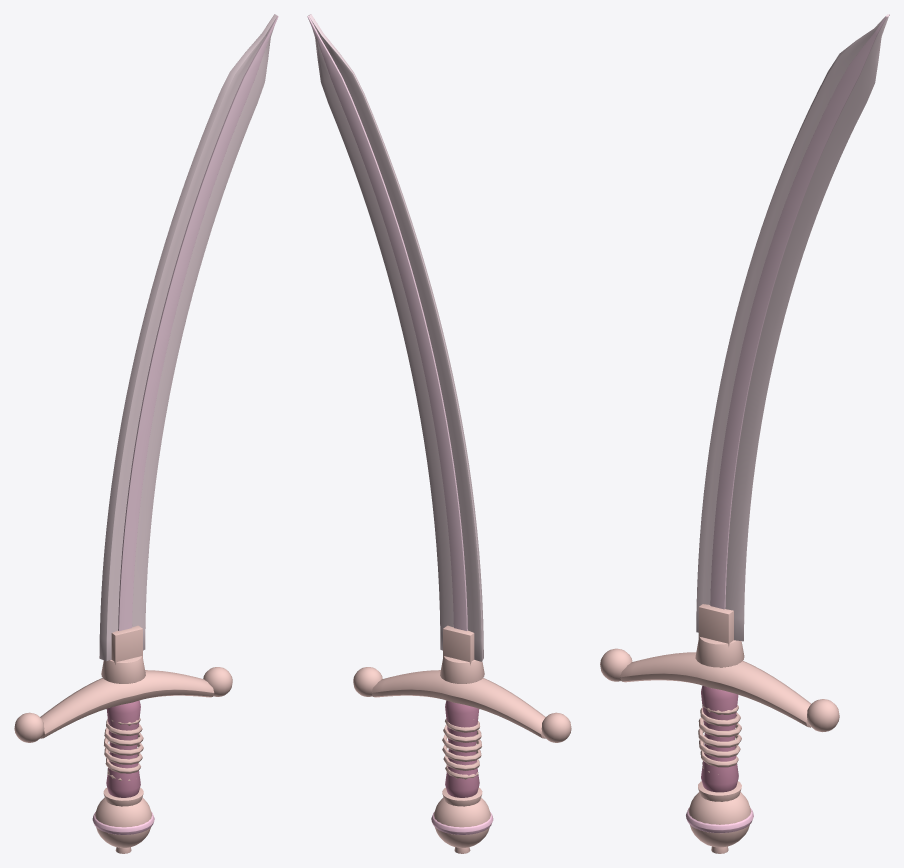
File: sabre.glb
The picture shows the model from 3 angles, left to right: view 1: azimuth 30°, elevation 25°; view 2: azimuth 150°, elevation 25°; view 3: azimuth 330°, elevation 25°; orthographic projection. The views are drawn at different scales.
Parts seen in each view (by area): view 1: sabre; view 2: sabre; view 3: sabre.
Boxes of the visible parts, x1,y1,x2,y2 form: sabre: [14, 14, 278, 853]; sabre: [307, 14, 571, 853]; sabre: [600, 14, 889, 853].
Bounding box in the file's own units: 0.4164 × 1.22 × 0.0853.
